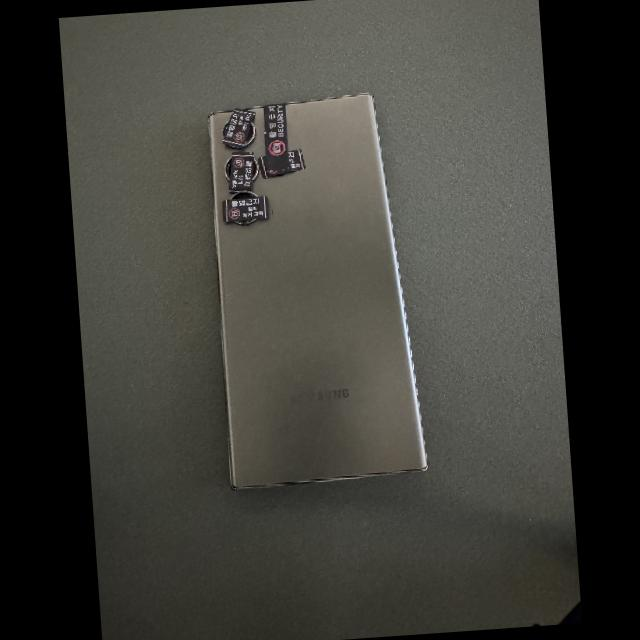lens: (246, 124, 255, 144), (225, 157, 232, 182), (231, 192, 256, 199)
phone: (208, 93, 427, 489)
sticker: (263, 102, 288, 169), (258, 147, 306, 179), (222, 108, 256, 147), (222, 195, 270, 222), (229, 152, 253, 194)
